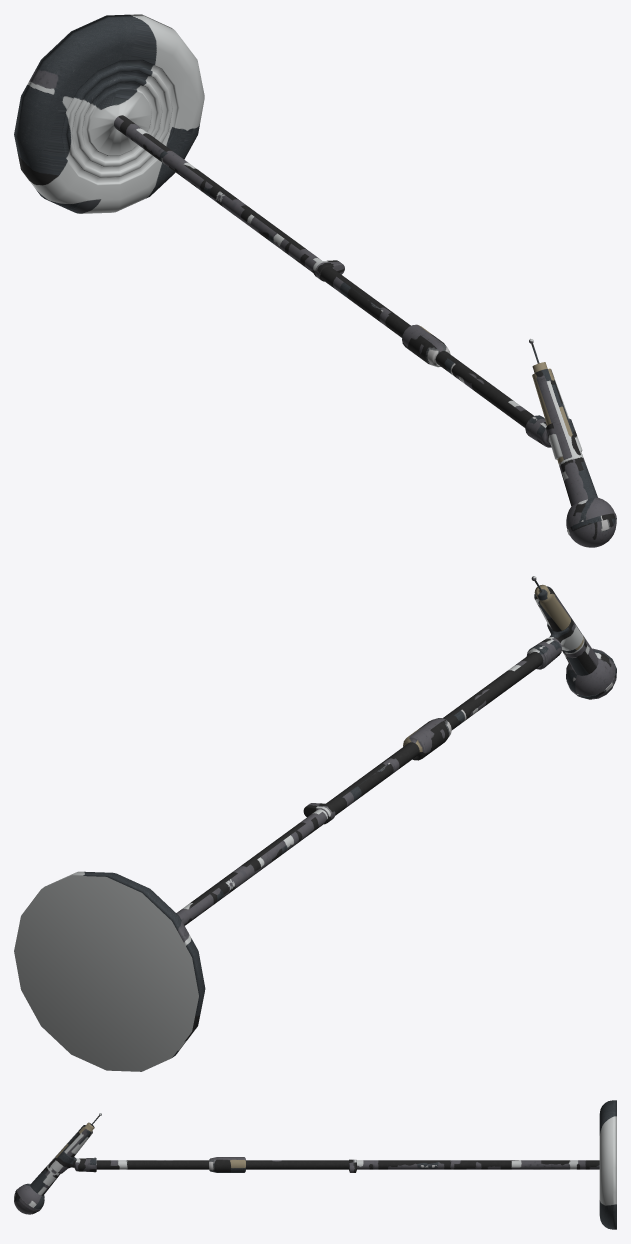
3 renders of one model, top to bottom at view 1: azimuth 30°, elevation 25°; view 2: azimuth 150°, elevation 25°; view 3: azimuth 270°, elevation 25°, orthographic. The views are drawn at different scales.
Parts seen in each view (by area): view 1: object_0; view 2: object_0; view 3: object_0.
Boxes of the visible parts, bbox=[...] form: object_0: bbox=[14, 14, 616, 547]; object_0: bbox=[14, 576, 616, 1071]; object_0: bbox=[14, 1100, 616, 1229].
Bounding box in the file's own units: 8.34 × 8.34 × 38.89.
